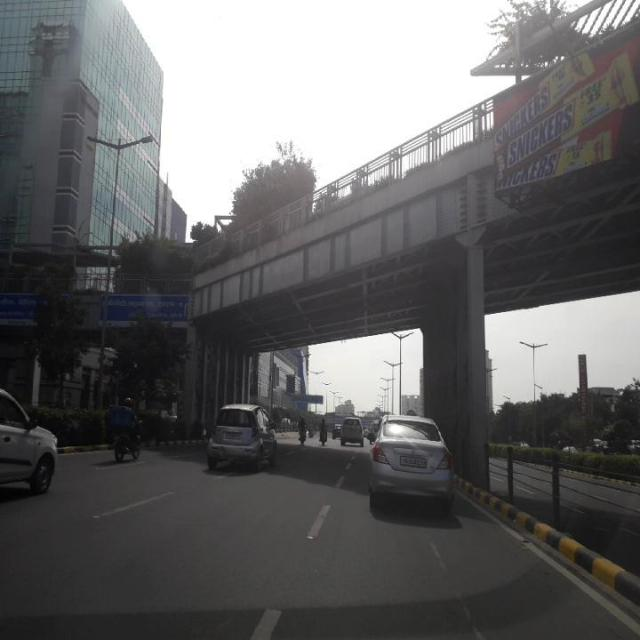pothole: (414, 516, 492, 638)
